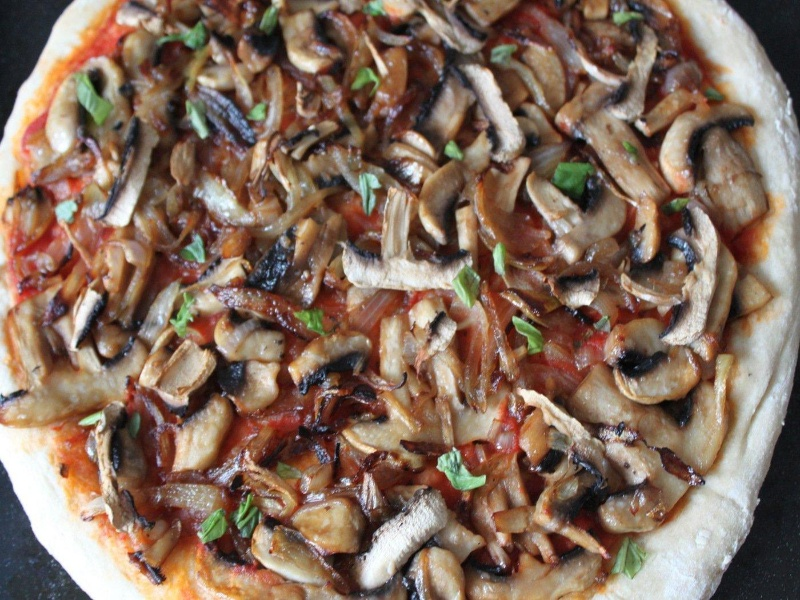champignon: (337, 187, 471, 286), (465, 553, 613, 600), (284, 331, 382, 393), (613, 344, 706, 403)
